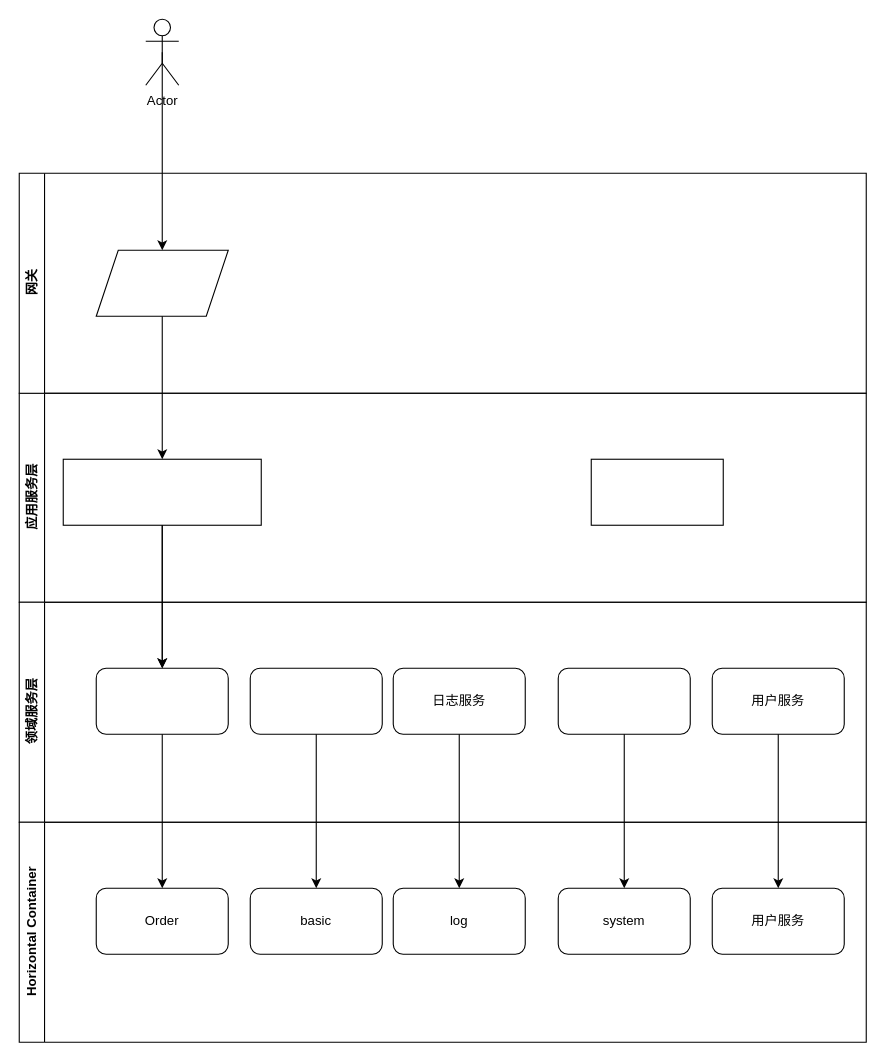
Some shapes in this 886 by 1062 pixel diagram are drawn without their labels. Here are the shapes that lost their labels. From the top down, the centre of each, then its label:
At (161,282): "gateway".
At (161,491): "oms后台API UserController OrderController".
At (656,491): "JOB".
At (161,700): "订单服务 库存服务 售后服务".
At (315,700): "基础服务".
At (623,700): "系统服务".
